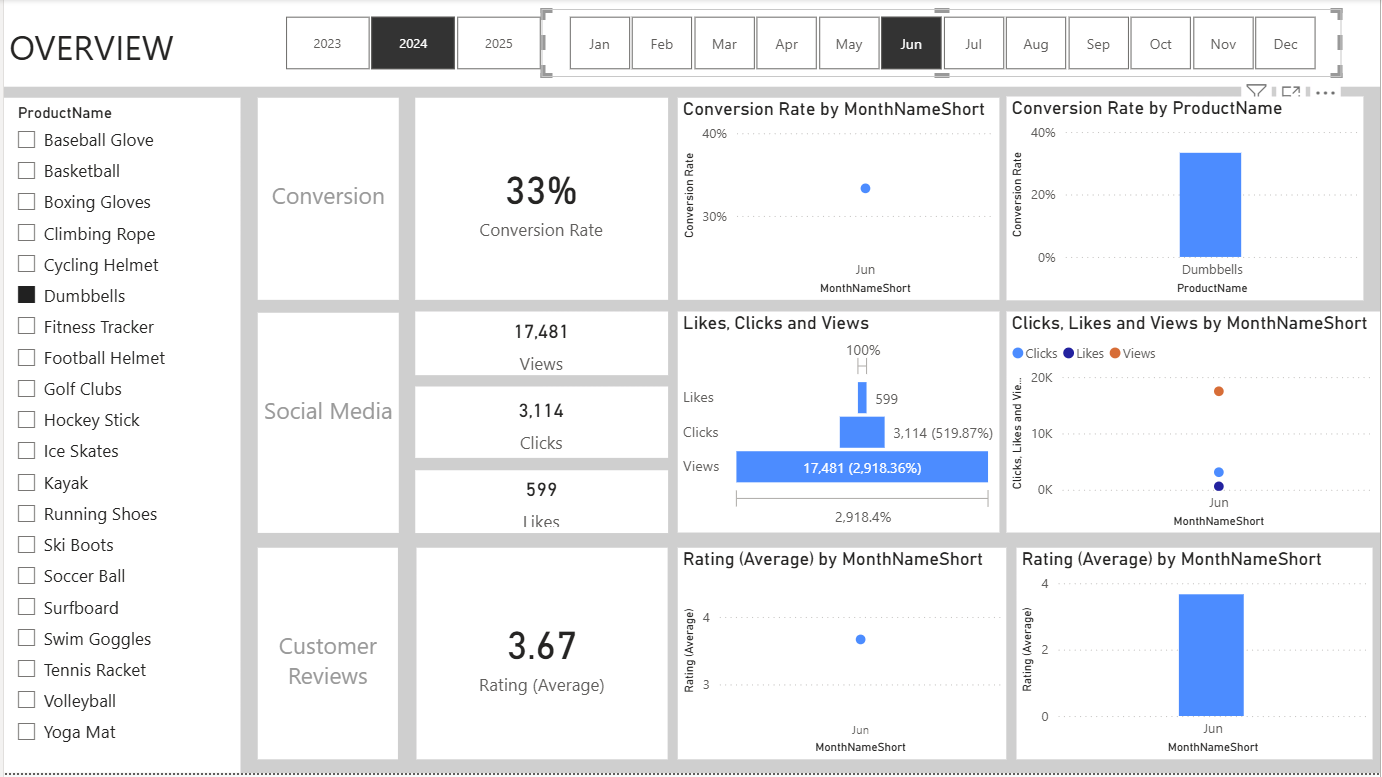

The dashboard page shown, as its layout file describes it:
{"tool":"powerbi","page":{"name":"Overview","canvas":[1280,720],"ordinal":0},"visuals":[{"type":"textbox","box":[0,0,1280.2,81.9],"z":0},{"type":"slicer","fields":{"Values":["dim_products.ProductName"]},"box":[0,91.9,219.8,627.9],"z":1000},{"type":"textbox","box":[236,91.9,131.4,188.4],"z":2000},{"type":"textbox","box":[236,510.5,130.2,196.5],"z":3000},{"type":"textbox","box":[236,291.9,131.4,204.7],"z":4000},{"type":"card","fields":{"Values":["_Calculations.Conversion Rate"]},"box":[382.6,91.9,234.9,188.4],"z":5000},{"type":"card","fields":{"Values":["_Calculations.Clicks"]},"box":[382.6,360.5,234.9,66.3],"z":6000},{"type":"card","fields":{"Values":["_Calculations.Views"]},"box":[382.6,290.7,234.9,59.3],"z":7000},{"type":"card","fields":{"Values":["_Calculations.Likes"]},"box":[382.6,438.4,234.9,58.1],"z":8000},{"type":"card","fields":{"Values":["_Calculations.Rating (Average)"]},"box":[383.7,510.5,233.7,196.5],"z":9000},{"type":"slicer","fields":{"Values":["Calender.Year"]},"box":[236,9.3,287.2,62.8],"z":10000},{"type":"slicer","fields":{"Values":["Calender.MonthNameShort"]},"box":[500,9.3,744.2,62.8],"z":11000},{"type":"lineChart","fields":{"Y":["_Calculations.Conversion Rate"],"Category":["Calender.MonthNameShort"]},"box":[626.7,91.9,298.8,188.4],"z":12000},{"type":"clusteredColumnChart","fields":{"Category":["dim_products.ProductName"],"Y":["_Calculations.Conversion Rate"]},"box":[932.6,90.4,332.2,189.3],"z":13000},{"type":"lineChart","fields":{"Y":["_Calculations.Clicks","_Calculations.Likes","_Calculations.Views"],"Category":["Calender.MonthNameShort"]},"box":[932.6,290.7,347.7,205.8],"z":14000},{"type":"funnel","fields":{"Y":["_Calculations.Likes","_Calculations.Clicks","_Calculations.Views"]},"box":[626.7,290.7,298.8,205.8],"z":15000},{"type":"lineChart","fields":{"Y":["_Calculations.Rating (Average)"],"Category":["Calender.MonthNameShort"]},"box":[626.7,510.5,305.8,196.5],"z":16000},{"type":"clusteredColumnChart","fields":{"Category":["Calender.MonthNameShort"],"Y":["_Calculations.Rating (Average)"]},"box":[941.9,510.5,331.4,196.5],"z":17000}]}

Visuals, with their boxes in screenshot pixels (x1, y1, x2, y2), scaled from the page's 1280x720 canvas onto the 1382x777 screenshot:
textbox: bbox=[0, 0, 1381, 88]
slicer - dim_products.ProductName: bbox=[0, 99, 237, 776]
textbox: bbox=[255, 99, 397, 302]
textbox: bbox=[255, 551, 395, 763]
textbox: bbox=[255, 315, 397, 536]
card - _Calculations.Conversion Rate: bbox=[413, 99, 667, 302]
card - _Calculations.Clicks: bbox=[413, 389, 667, 461]
card - _Calculations.Views: bbox=[413, 314, 667, 378]
card - _Calculations.Likes: bbox=[413, 473, 667, 536]
card - _Calculations.Rating (Average): bbox=[414, 551, 667, 763]
slicer - Calender.Year: bbox=[255, 10, 565, 78]
slicer - Calender.MonthNameShort: bbox=[540, 10, 1343, 78]
lineChart - _Calculations.Conversion Rate x Calender.MonthNameShort: bbox=[677, 99, 999, 302]
clusteredColumnChart - dim_products.ProductName x _Calculations.Conversion Rate: bbox=[1007, 98, 1366, 302]
lineChart - _Calculations.Clicks x _Calculations.Likes: bbox=[1007, 314, 1381, 536]
funnel - _Calculations.Likes x _Calculations.Clicks: bbox=[677, 314, 999, 536]
lineChart - _Calculations.Rating (Average) x Calender.MonthNameShort: bbox=[677, 551, 1007, 763]
clusteredColumnChart - Calender.MonthNameShort x _Calculations.Rating (Average): bbox=[1017, 551, 1375, 763]
